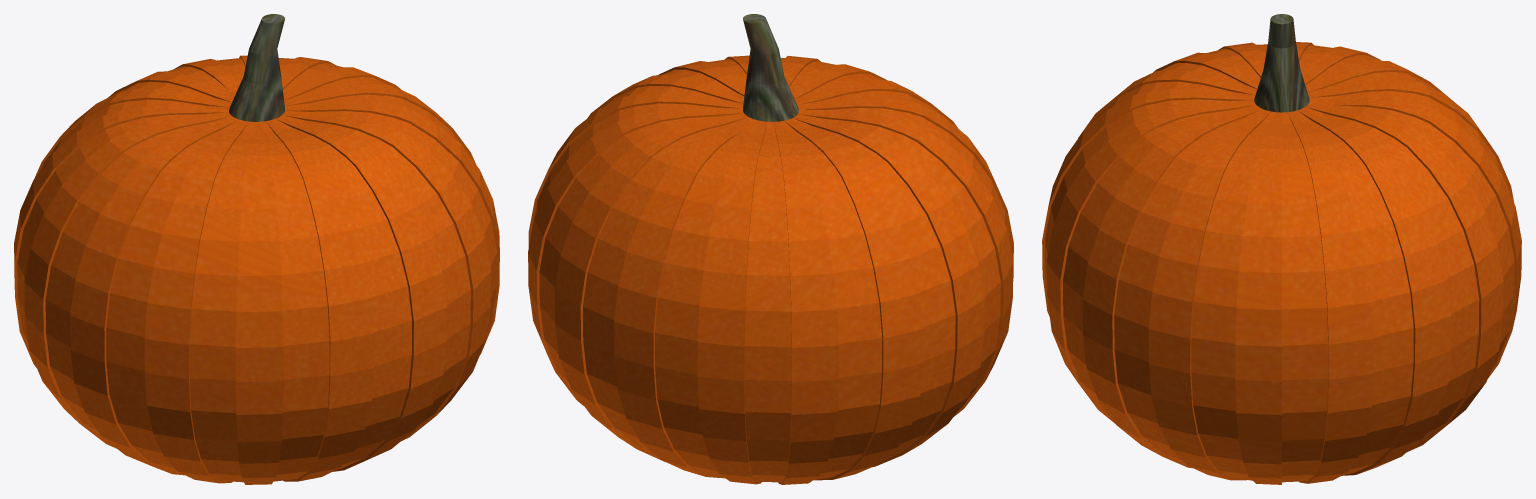
The model's file is pumpkin.fbx.
3 views of the same model, side by side, from view 1: azimuth 30°, elevation 25°; view 2: azimuth 150°, elevation 25°; view 3: azimuth 270°, elevation 25° (orthographic). The views are drawn at different scales.
Visible parts, largest first — view 1: Sphere; view 2: Sphere; view 3: Sphere.
Part boxes in pixels (<box>): Sphere: <box>14,14,499,484</box>; Sphere: <box>528,14,1013,484</box>; Sphere: <box>1042,14,1521,484</box>.
Bounding box in the file's own units: 365 × 352 × 348.
